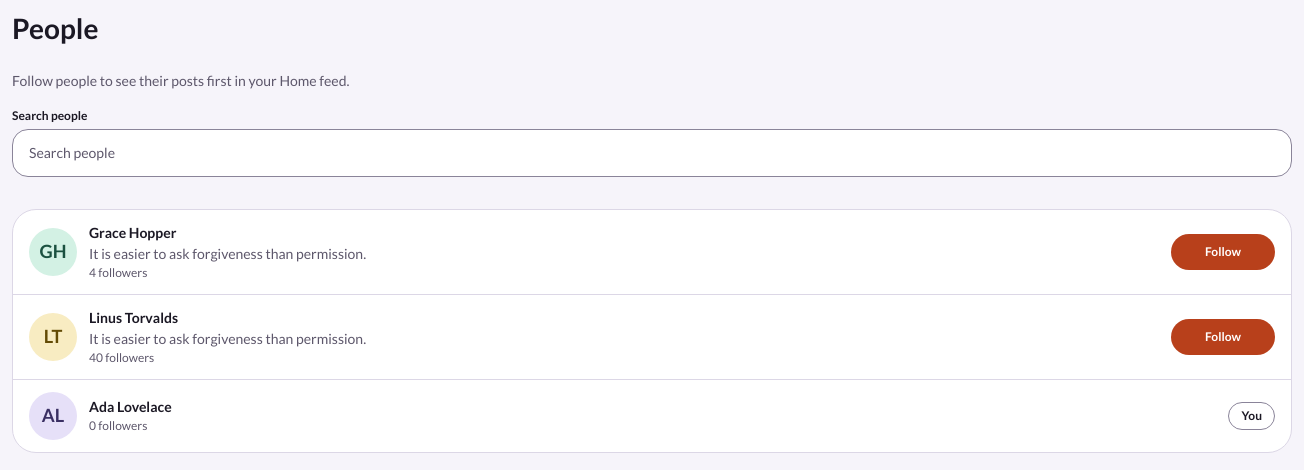
Test: Users › keeps one person's follow when another one fails
Click the button with aria-label "Follow Grace Hopper" at (1223, 252), box [1171, 234, 1275, 270]
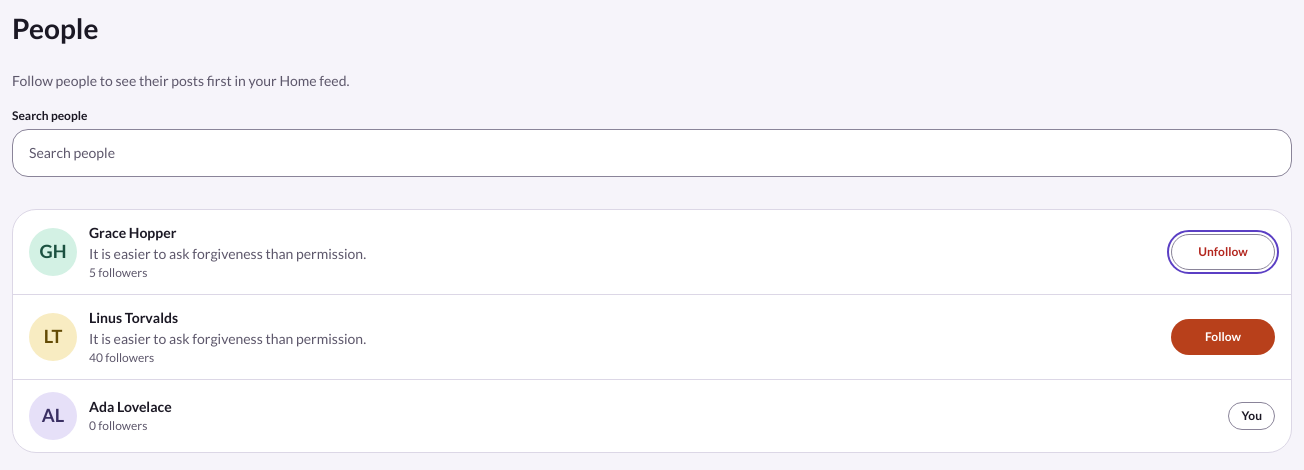
Click the button with aria-label "Follow Linus Torvalds" at (1223, 337), box [1171, 319, 1275, 355]
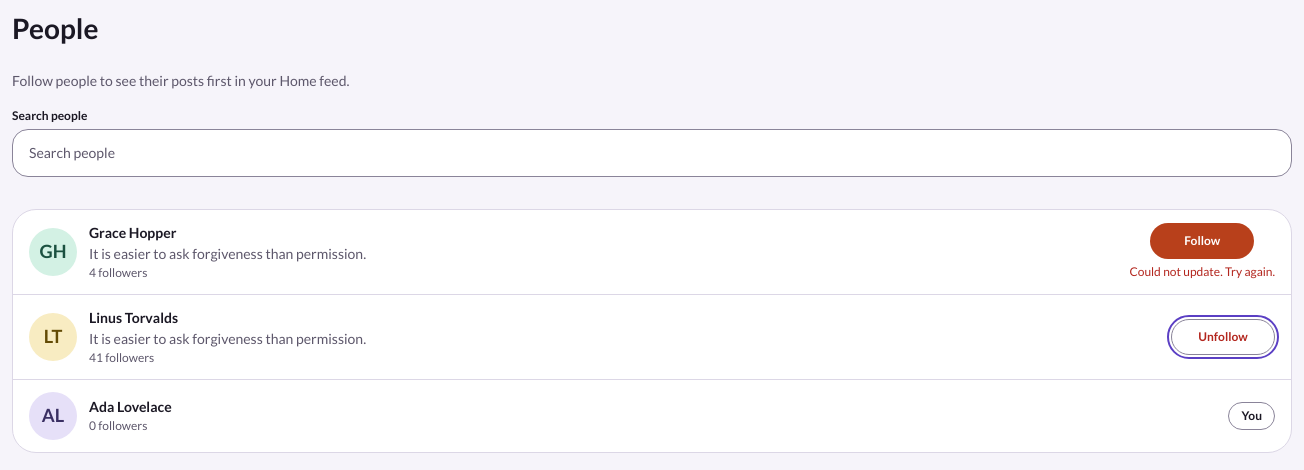
Expected: the message "Could not update. Try again." is shown, [1130, 263, 1275, 281]
Expected: the text "41 followers" is shown, [89, 350, 154, 365]
